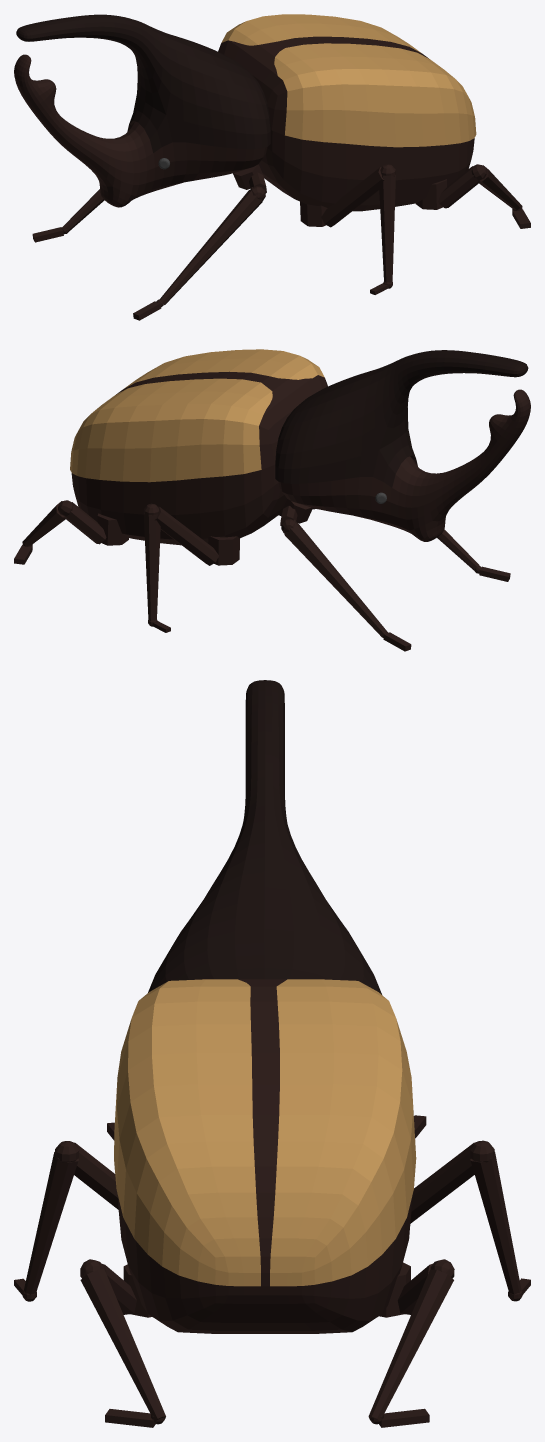
Rendered from beetle.fbx.
3 views of the same model, one above another, from view 1: azimuth 30°, elevation 25°; view 2: azimuth 150°, elevation 25°; view 3: azimuth 270°, elevation 25° (orthographic). The views are drawn at different scales.
Parts seen in each view (by area): view 1: beetle, bhead, leg1a, leg2b, leg3c; view 2: beetle, bhead, leg2b, leg1a, leg3c; view 3: beetle, bhead, leg3c, leg2b.
Part boxes in pixels (x1,y1,x2,y2): beetle: (218, 14, 476, 211); bhead: (14, 14, 270, 207); leg1a: (32, 164, 266, 320); leg2b: (300, 164, 395, 294); leg3c: (415, 164, 530, 228); beetle: (70, 349, 327, 545); bhead: (275, 350, 530, 541); leg2b: (143, 503, 317, 632); leg1a: (280, 499, 510, 651); leg3c: (14, 500, 128, 564); beetle: (114, 979, 416, 1333); bhead: (148, 680, 381, 994); leg3c: (80, 1259, 454, 1427); leg2b: (14, 1140, 530, 1301).
Size of the model in its own units: 132 by 72.9 by 83.02.
